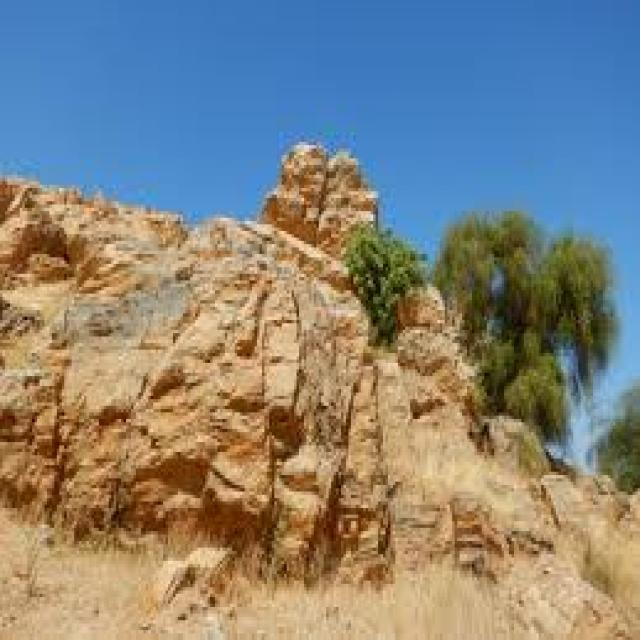Metamorphic: (2, 132, 450, 541)
